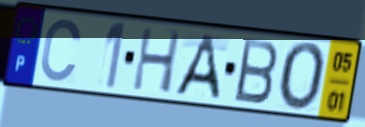1: (101, 19, 127, 93)
A: (171, 32, 222, 102)
B: (233, 36, 281, 107)
C: (38, 16, 84, 85)
H: (130, 25, 184, 96)
O: (277, 40, 329, 115)
